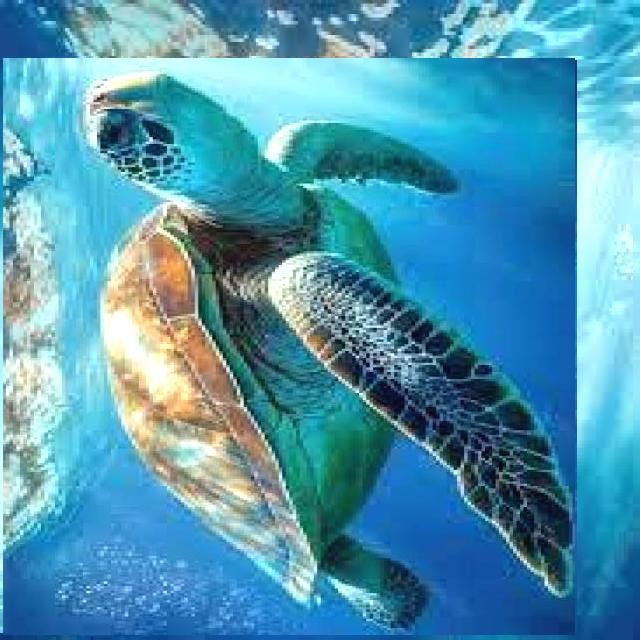Sea turtle: (1, 59, 576, 634)
